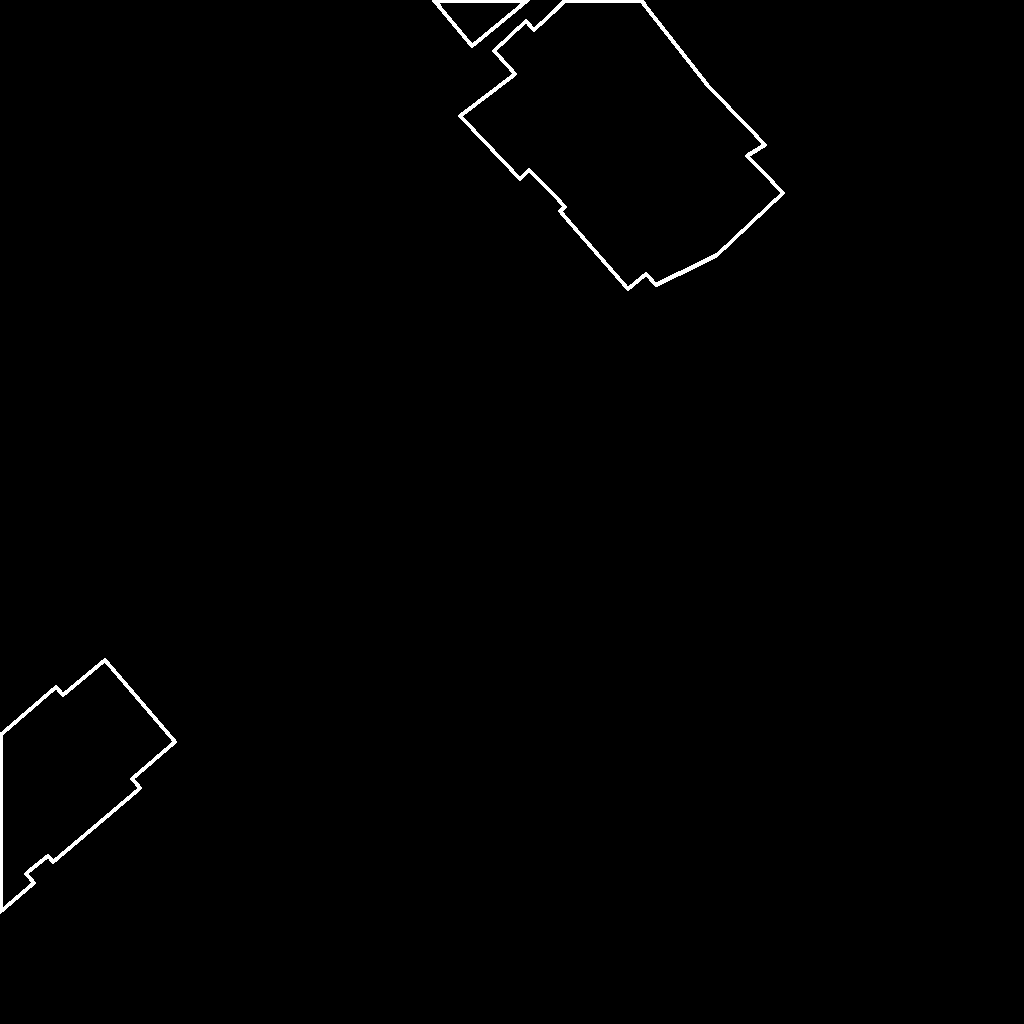building: (460, 0, 784, 290), (0, 660, 176, 913), (433, 0, 529, 47)
